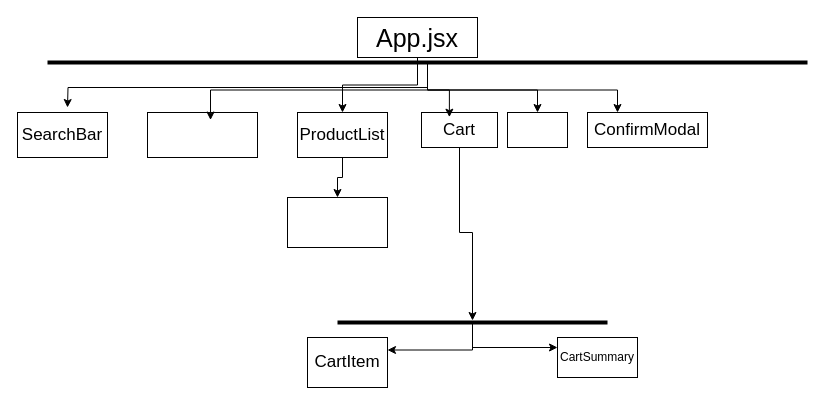
Some shapes in this 827 by 405 pixel diagram are drawn without their labels. Here are the shapes that lost their labels. From the top down, the centre of each, then its label:
point 202,135: CategoryFilter
point 537,130: Modal
point 337,222: ProductCard
